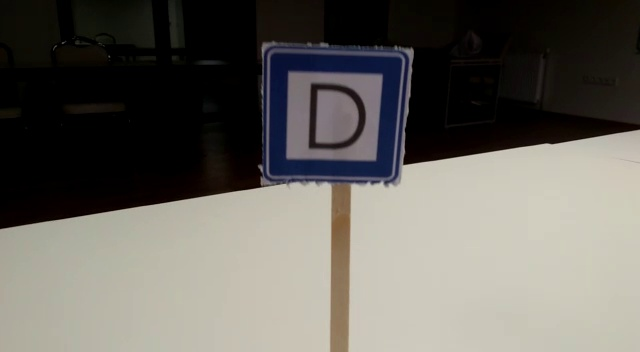durak: (263, 47, 409, 185)
